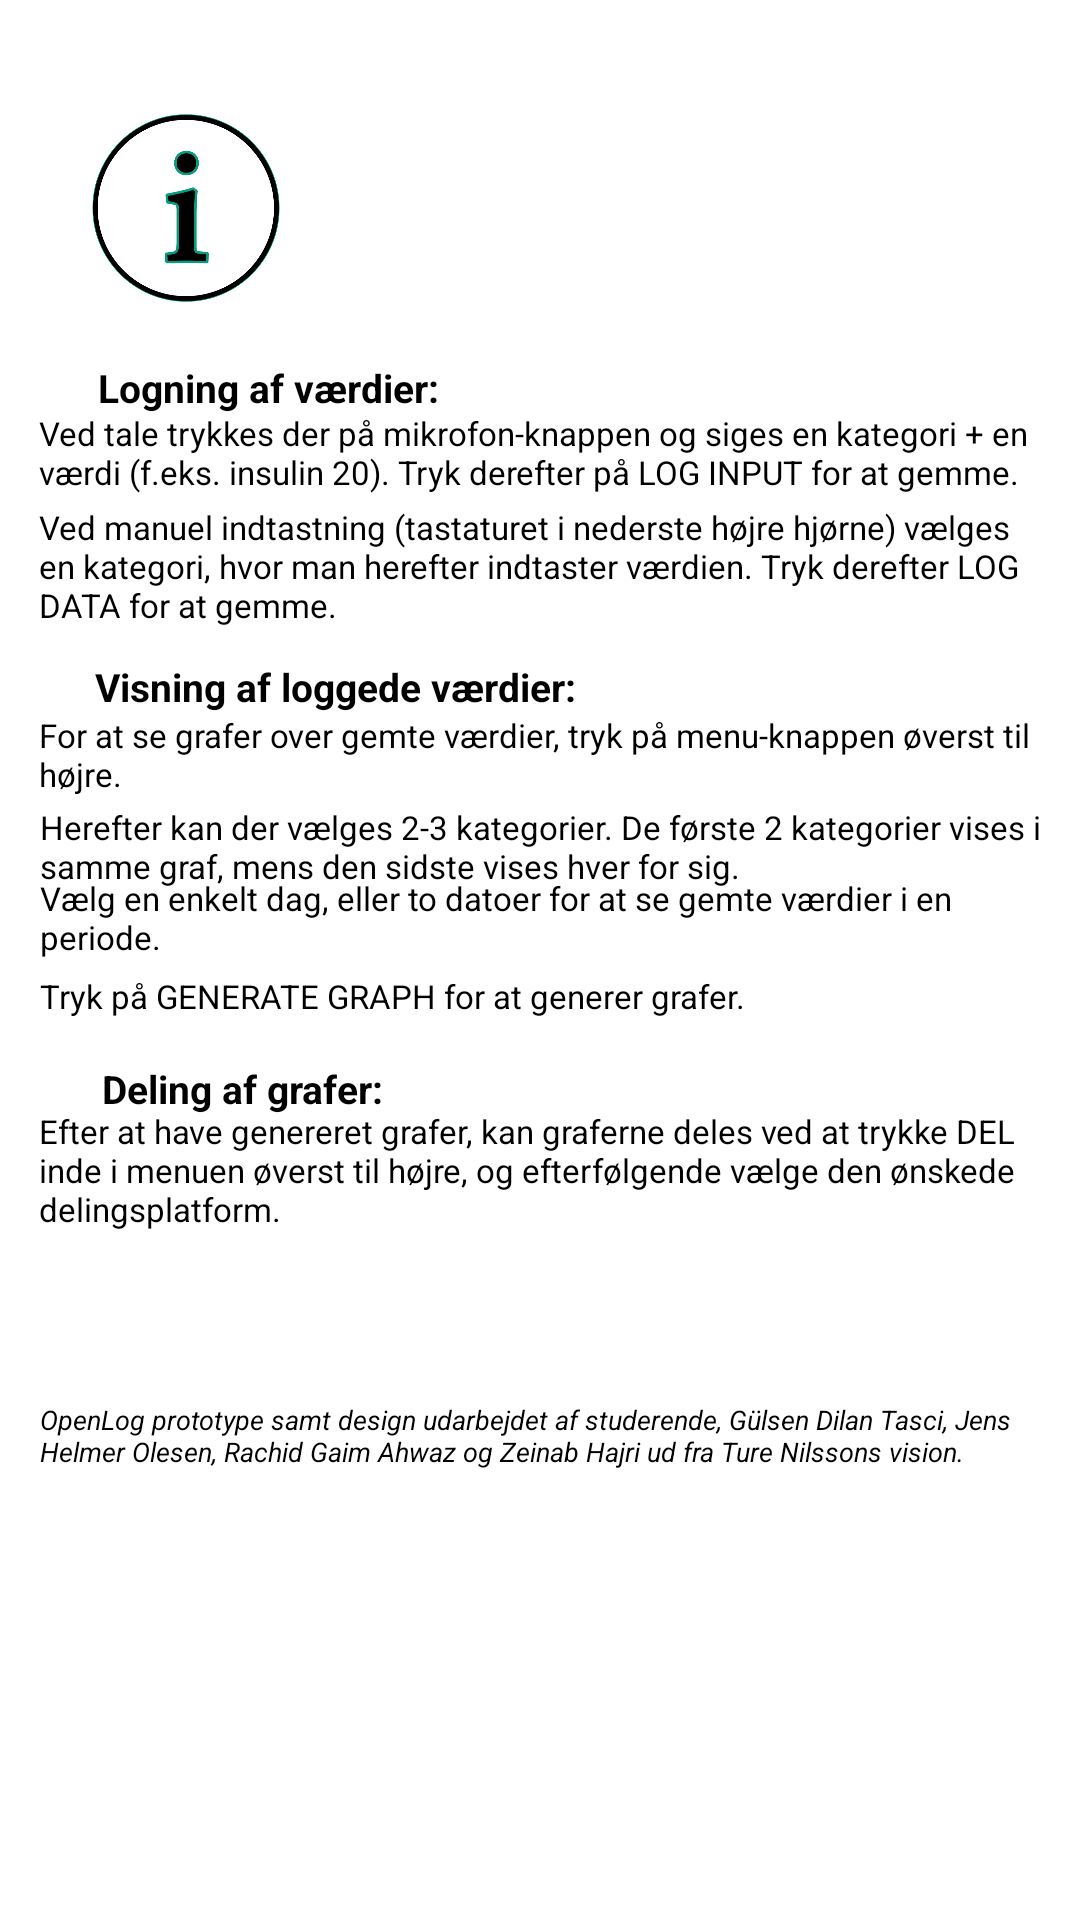

Where icons sit on this 1080×1920 app screen, as {"left": x1, "top": y1, "right": x2, "bottom": y2}:
info: {"left": 92, "top": 114, "right": 280, "bottom": 302}
